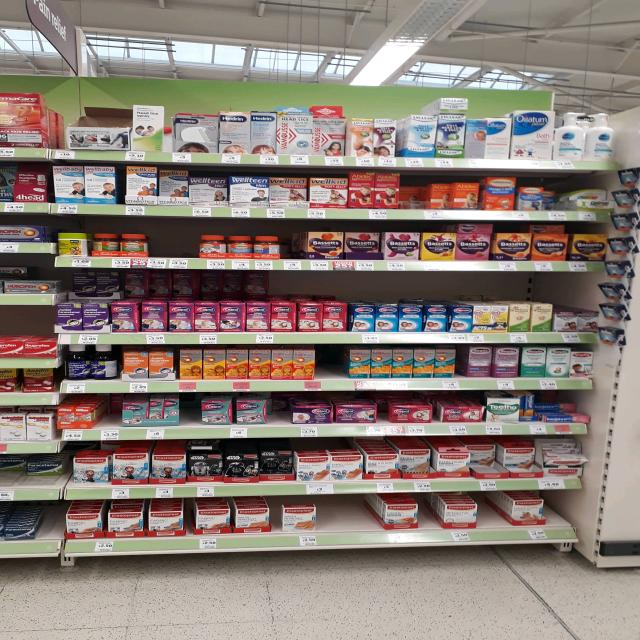unorganised: (381, 498, 566, 533), (68, 271, 267, 299), (471, 443, 536, 475), (198, 399, 269, 427), (314, 114, 349, 159), (278, 502, 322, 531), (157, 167, 190, 204), (389, 402, 435, 425), (90, 341, 117, 378), (252, 234, 282, 257), (401, 185, 423, 209), (95, 233, 120, 254), (541, 188, 562, 210), (518, 394, 534, 422)
